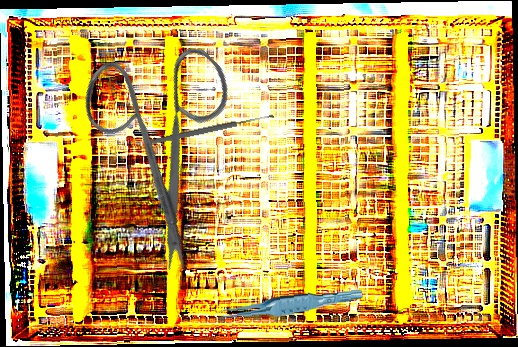Iris Scissors: (33, 6, 306, 280)
Surgical Spoon: (146, 112, 275, 147)
Tissue Forceps: (210, 287, 364, 322)
